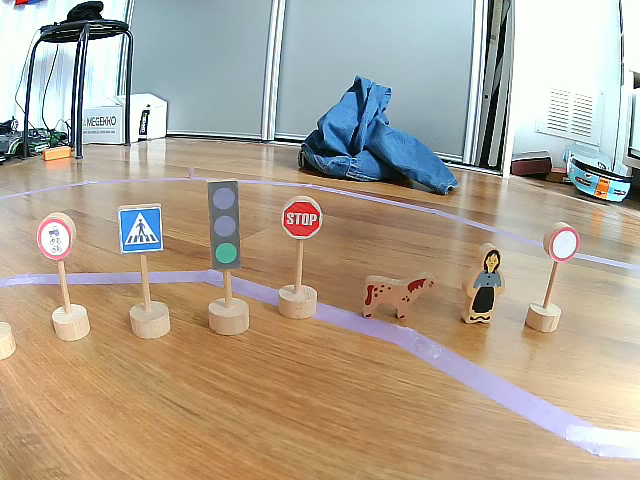fietspad: (39, 217, 72, 260)
groenlicht: (210, 180, 239, 272)
mens: (462, 243, 505, 324)
paard: (363, 273, 437, 317)
stopbord: (282, 198, 321, 238)
wegdicht: (550, 226, 579, 264)
zebrapad: (119, 205, 162, 253)
